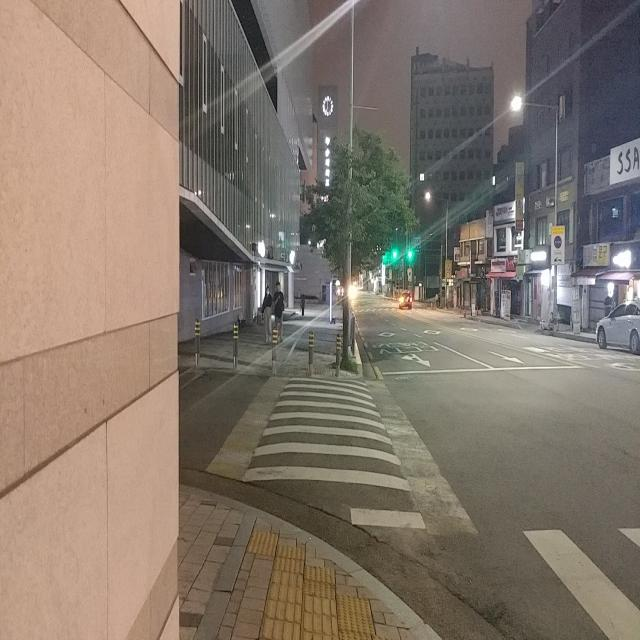횡단보도: (242, 376, 428, 531), (521, 520, 640, 640)
